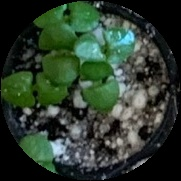Basil: (0, 72, 68, 109), (41, 28, 77, 85), (35, 2, 99, 32), (76, 28, 134, 60), (81, 60, 117, 109)
